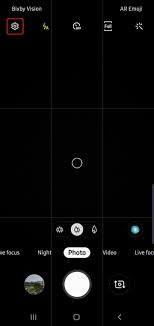camera: (61, 266, 94, 304)
